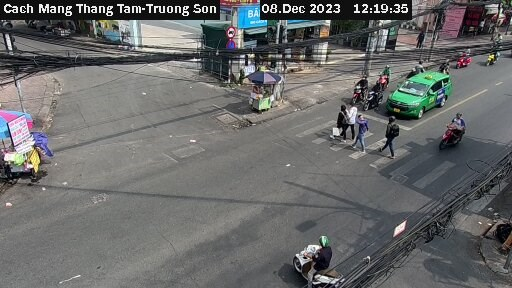car: (384, 69, 456, 117)
motorbike: (284, 235, 353, 287), (440, 116, 472, 151), (365, 84, 387, 111), (373, 66, 392, 92), (453, 46, 473, 69), (487, 41, 504, 67), (351, 77, 367, 102)
